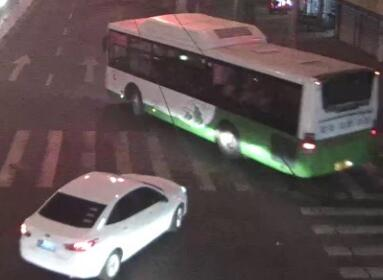bus: (99, 12, 383, 179)
car: (17, 171, 186, 277)
